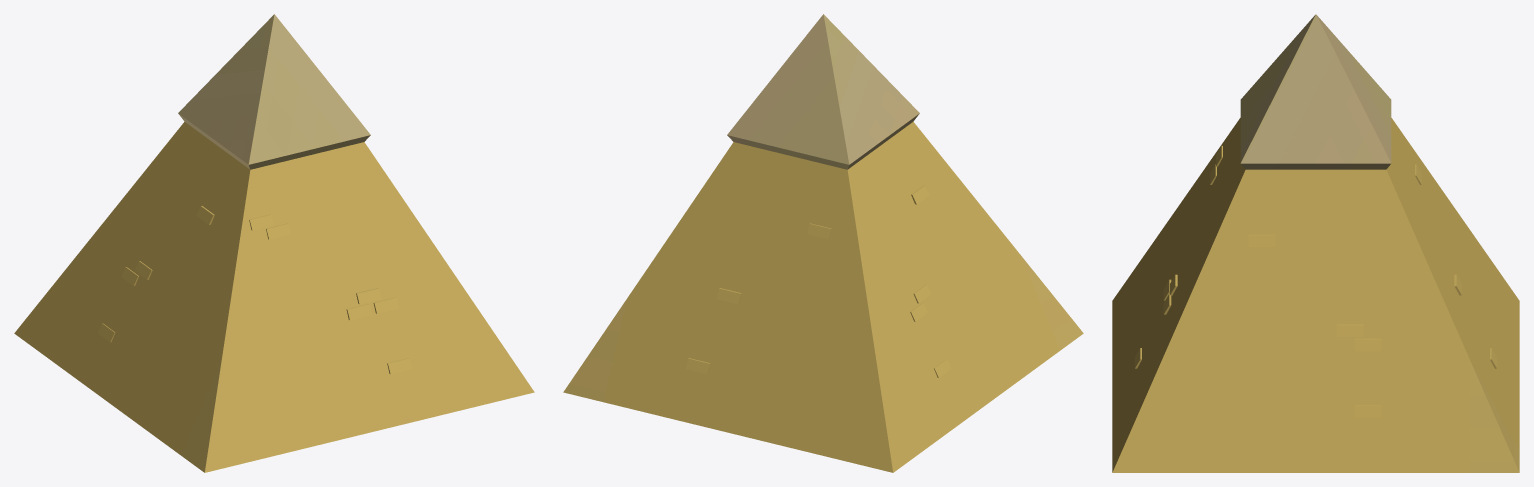
File: CHAHIN_PYRAMID.gltf
3 views of the same model, side by side, from view 1: azimuth 30°, elevation 25°; view 2: azimuth 150°, elevation 25°; view 3: azimuth 270°, elevation 25° (orthographic). The views are drawn at different scales.
Parts seen in each view (by area): view 1: node-0; view 2: node-0; view 3: node-0.
Boxes of the visible parts, box(x1,y1,x2,y2) form: node-0: box(14, 14, 534, 472); node-0: box(563, 14, 1083, 472); node-0: box(1112, 14, 1519, 472).
Bounding box in the file's own units: 14.8 × 14.95 × 14.8.
Materials: 1 (1 with a texture image).
